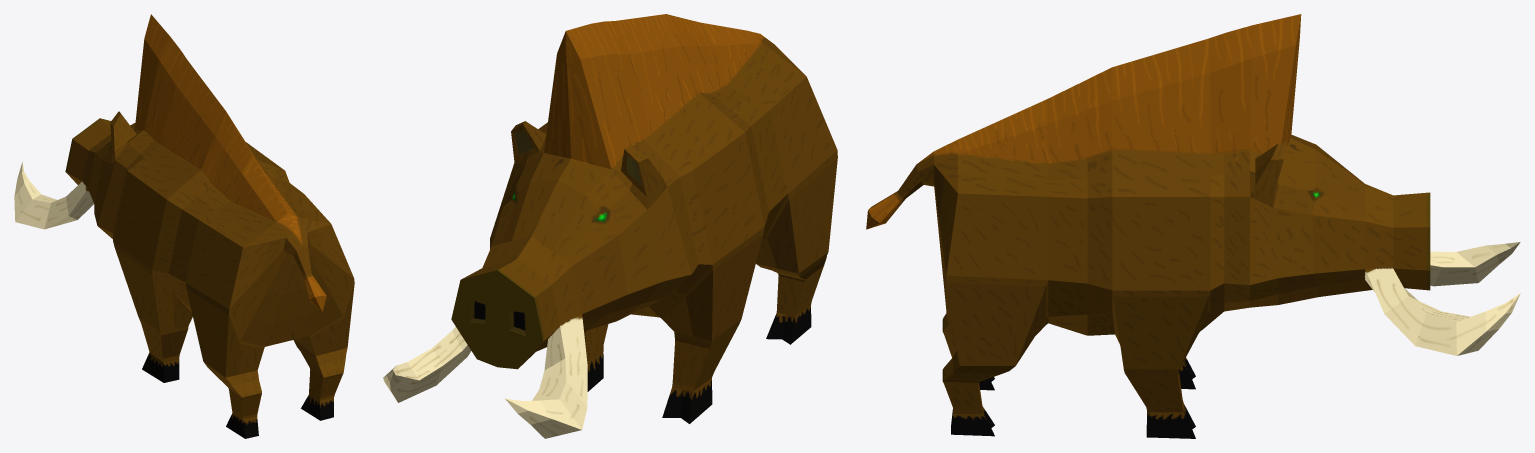
The model's file is Boar.fbx.
The picture shows the model from 3 angles, left to right: view 1: azimuth 30°, elevation 25°; view 2: azimuth 150°, elevation 25°; view 3: azimuth 270°, elevation 25°; orthographic projection. The views are drawn at different scales.
Visible parts, largest first — view 1: Cylinder; view 2: Cylinder; view 3: Cylinder.
Boxes of the visible parts, x1,y1,x2,y2 form: Cylinder: (14, 14, 354, 438); Cylinder: (383, 14, 837, 438); Cylinder: (866, 14, 1520, 438).
Bounding box in the file's own units: 145 × 292 × 439.
